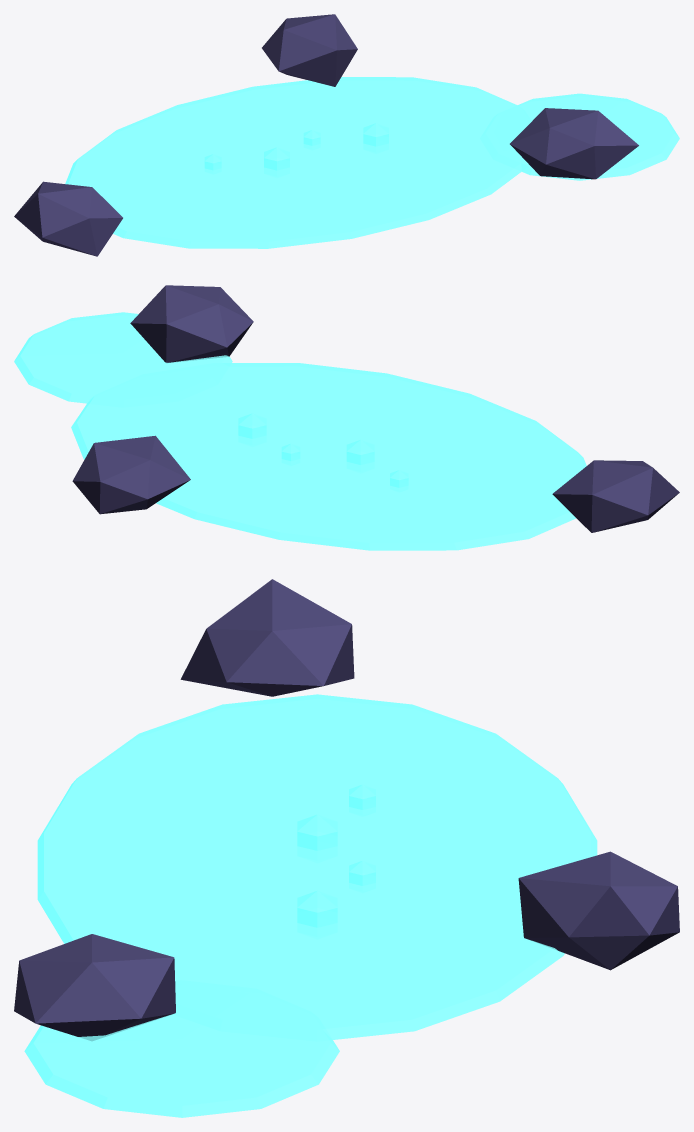
Rendered from Mine_GlowOoze.fbx.
The picture shows the model from 3 angles, top to bottom: view 1: azimuth 30°, elevation 25°; view 2: azimuth 150°, elevation 25°; view 3: azimuth 270°, elevation 25°; orthographic projection. The views are drawn at different scales.
Parts seen in each view (by area): view 1: Mine_GlowOoze_Body; view 2: Mine_GlowOoze_Body; view 3: Mine_GlowOoze_Body.
Boxes of the visible parts, x1,y1,x2,y2 form: Mine_GlowOoze_Body: [14, 14, 679, 256]; Mine_GlowOoze_Body: [14, 285, 679, 550]; Mine_GlowOoze_Body: [14, 579, 679, 1117].
Bounding box in the file's own units: 2.46 × 0.2288 × 1.48.
